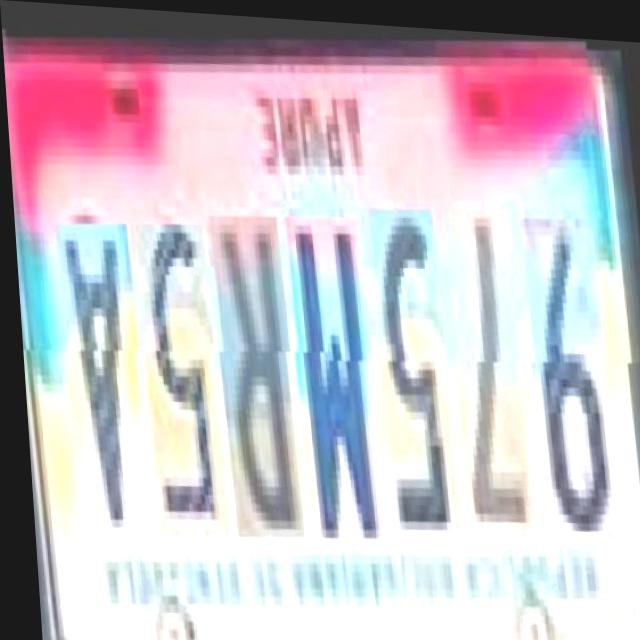5: (365, 197, 456, 534), (131, 213, 224, 533)
7: (440, 197, 531, 534)
9: (517, 206, 615, 535)
a: (50, 212, 148, 541)
m: (282, 205, 380, 542)
r: (205, 204, 299, 533)
